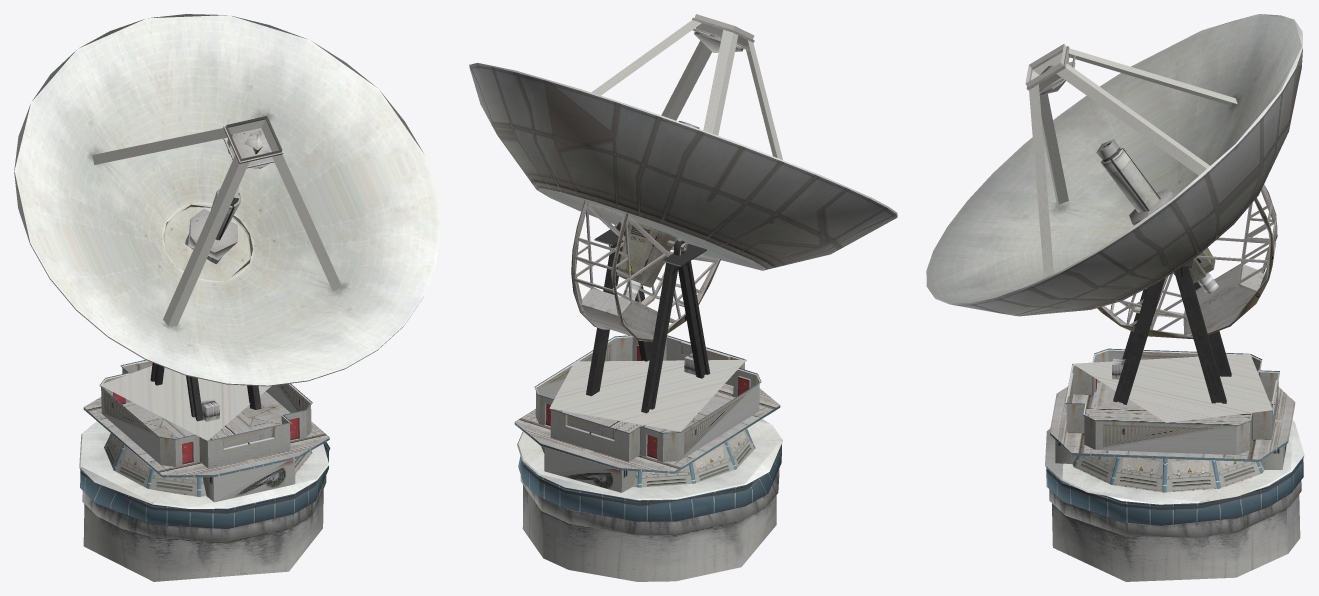
File: leida LOD 0.dae
3 renders of one model, left to right at view 1: azimuth 30°, elevation 25°; view 2: azimuth 150°, elevation 25°; view 3: azimuth 270°, elevation 25°, orthographic. The views are drawn at different scales.
Parts seen in each view (by area): view 1: leida_x0020_LOD_x0020_0, DrawCall_0374; view 2: leida_x0020_LOD_x0020_0, DrawCall_0374; view 3: leida_x0020_LOD_x0020_0, DrawCall_0374.
Boxes of the visible parts, box(x1,y1,x2,y2) form: leida_x0020_LOD_x0020_0: box(14, 14, 440, 502); DrawCall_0374: box(79, 421, 330, 581); leida_x0020_LOD_x0020_0: box(469, 14, 897, 492); DrawCall_0374: box(517, 419, 782, 581); leida_x0020_LOD_x0020_0: box(926, 14, 1302, 492); DrawCall_0374: box(1045, 420, 1304, 581).
Bounding box in the file's own units: 227 × 270 × 189.
